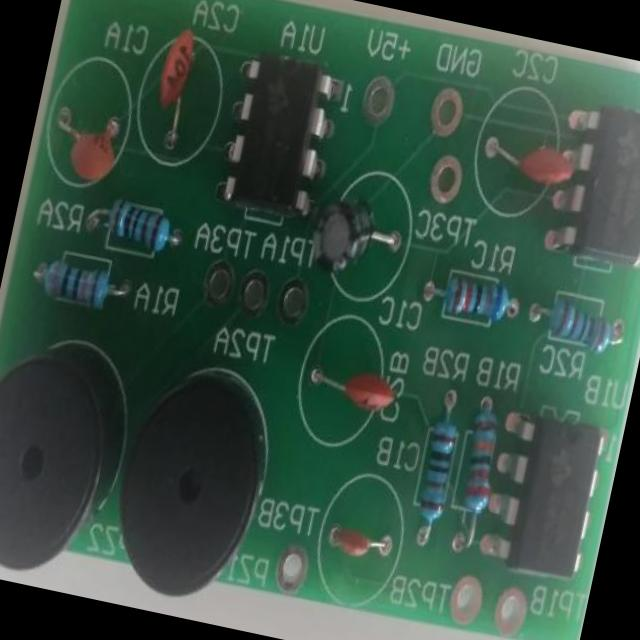IC: (481, 407, 609, 575), (215, 48, 333, 221), (548, 100, 640, 275)
capacitor: (310, 178, 398, 280), (314, 350, 406, 426), (486, 125, 580, 194), (60, 98, 128, 187), (153, 20, 210, 119), (324, 516, 392, 574)
resistor: (409, 396, 464, 538), (532, 286, 626, 364), (448, 395, 505, 517), (434, 273, 516, 336), (98, 202, 176, 250), (39, 263, 115, 310)
